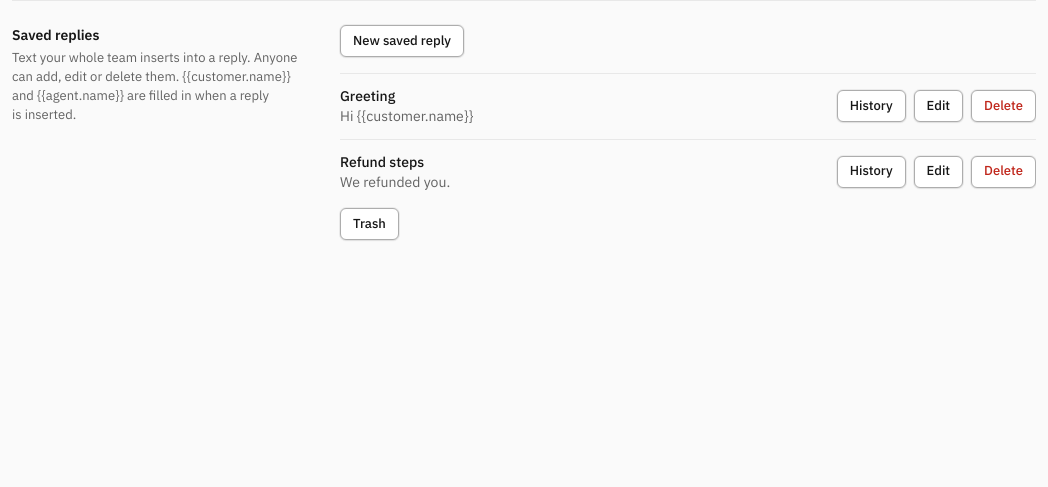
Test case: an edit made from an older version is refused, says who won, and Reload shows the current text
Click the button with aria-label "Edit Greeting" at (938, 106), box [914,90,963,122]
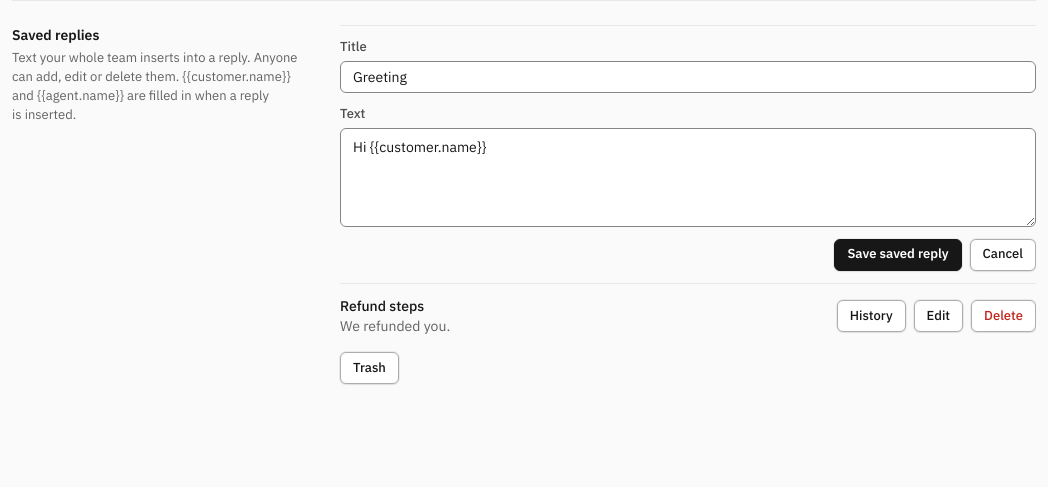
Replace the text in the text box labelled "Text" with "My version" at (688, 177), box [340,128,1036,227]
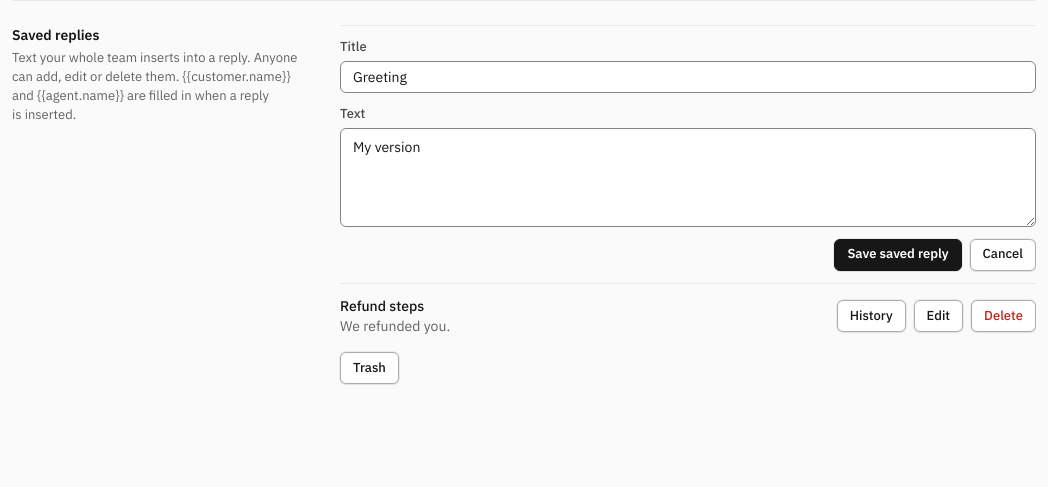
Click the button "Save saved reply" at (898, 255), box [834,239,962,271]
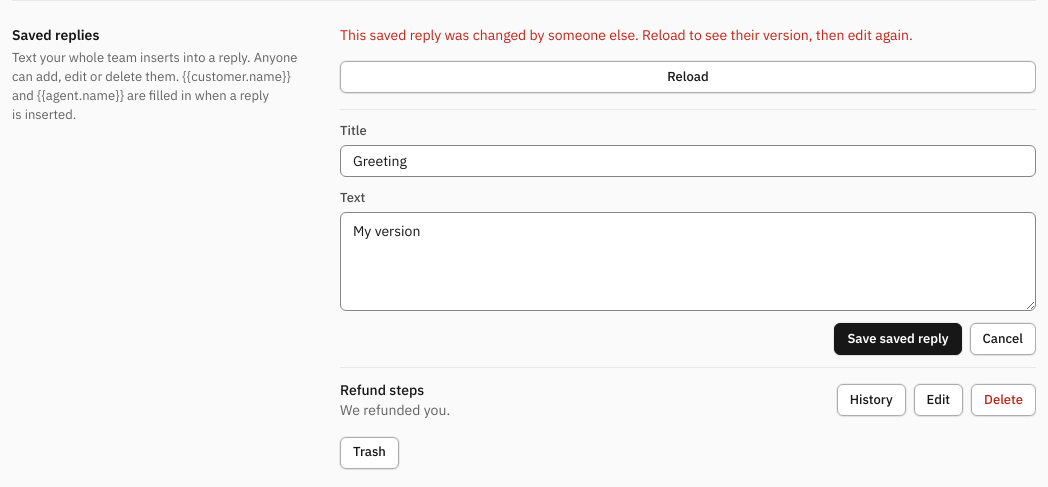
Expected: the form named "Edit Greeting" is shown, [340,122,1036,355]
Expected: the message shows "changed by someone else", [340,26,913,44]
Click the button "Reload" at (688, 77), box [340,61,1036,93]
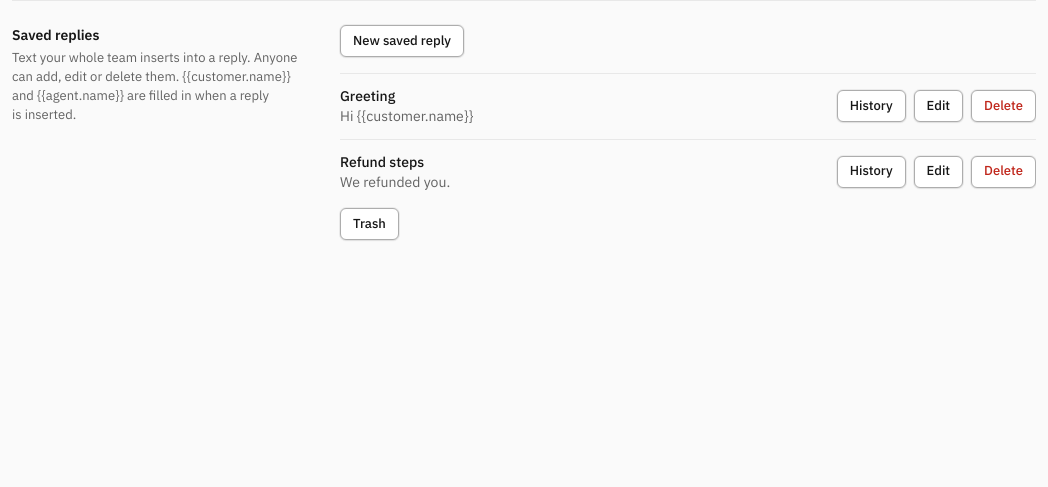
Expected: the message "This saved reply was changed by someone else. Reload to see their version, then" is gone
